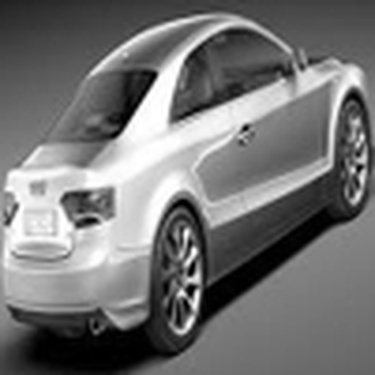car: (2, 2, 372, 372)
